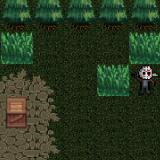Hide: (0, 90, 36, 134)
Jason: (130, 64, 160, 96)
Obstacle: (0, 0, 33, 32), (33, 0, 65, 32), (97, 0, 129, 32), (65, 0, 97, 31), (129, 0, 160, 31)
Slow: (0, 32, 33, 64), (97, 64, 130, 96), (129, 32, 160, 64)
